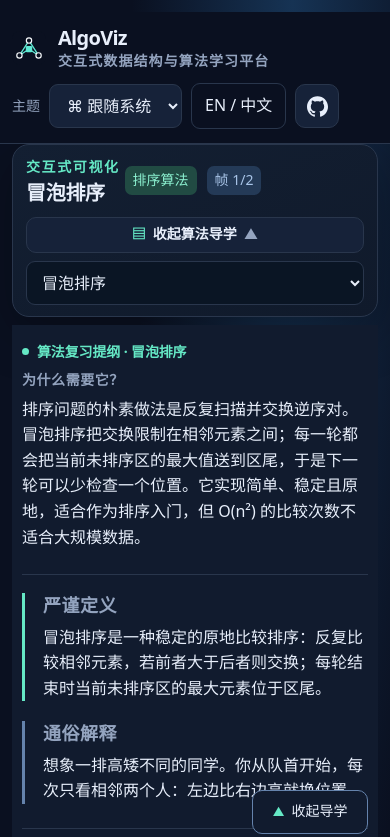
Test: INPUT-03 — linear search and hash operation inputs › sends a genuinely empty linear array to Python and resets playback
The image size is (390, 837).
Later steps or results of the test are not shown.
Select "顺序查找" in the dropdown with test id "mobile-algo-select" at (195, 283), box [26,261,364,305]
(page scrolled)
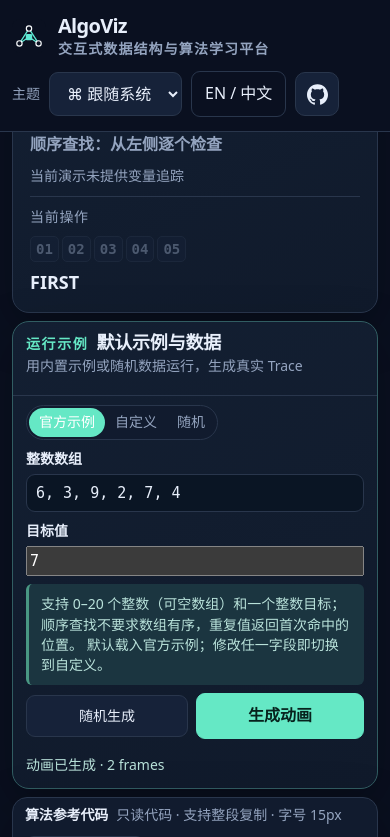
Expected: the element with test id "guided-input" has attribute data-algorithm="linear", [26,406,364,777]
